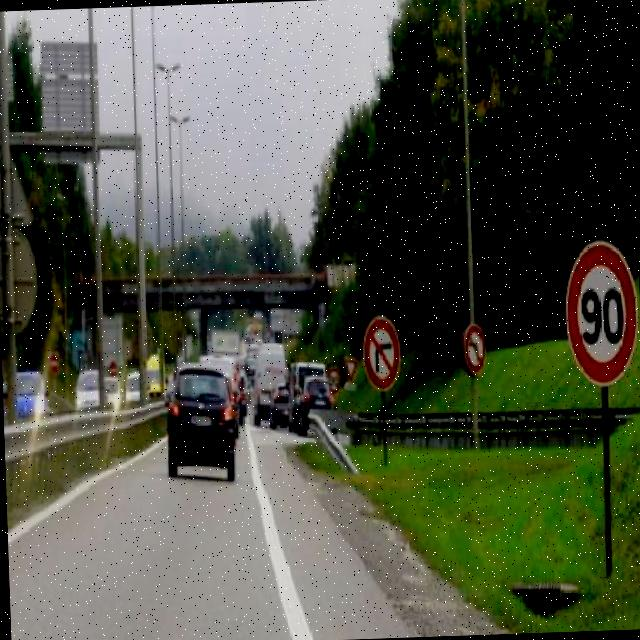Ograniczenie predkosci do 90: (560, 242, 636, 384)
